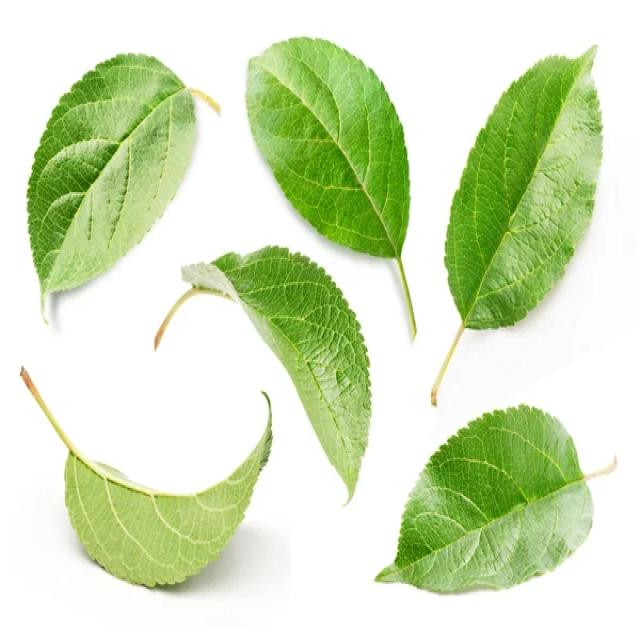kayisi yapragi: (180, 228, 385, 506), (373, 378, 597, 620), (443, 37, 607, 346), (27, 52, 215, 311), (66, 390, 278, 596), (245, 36, 419, 255)
